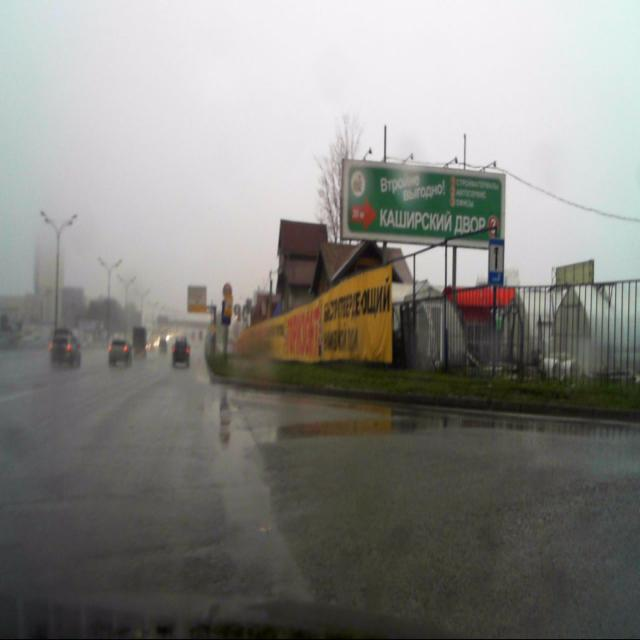road sign: (488, 239, 504, 285)
